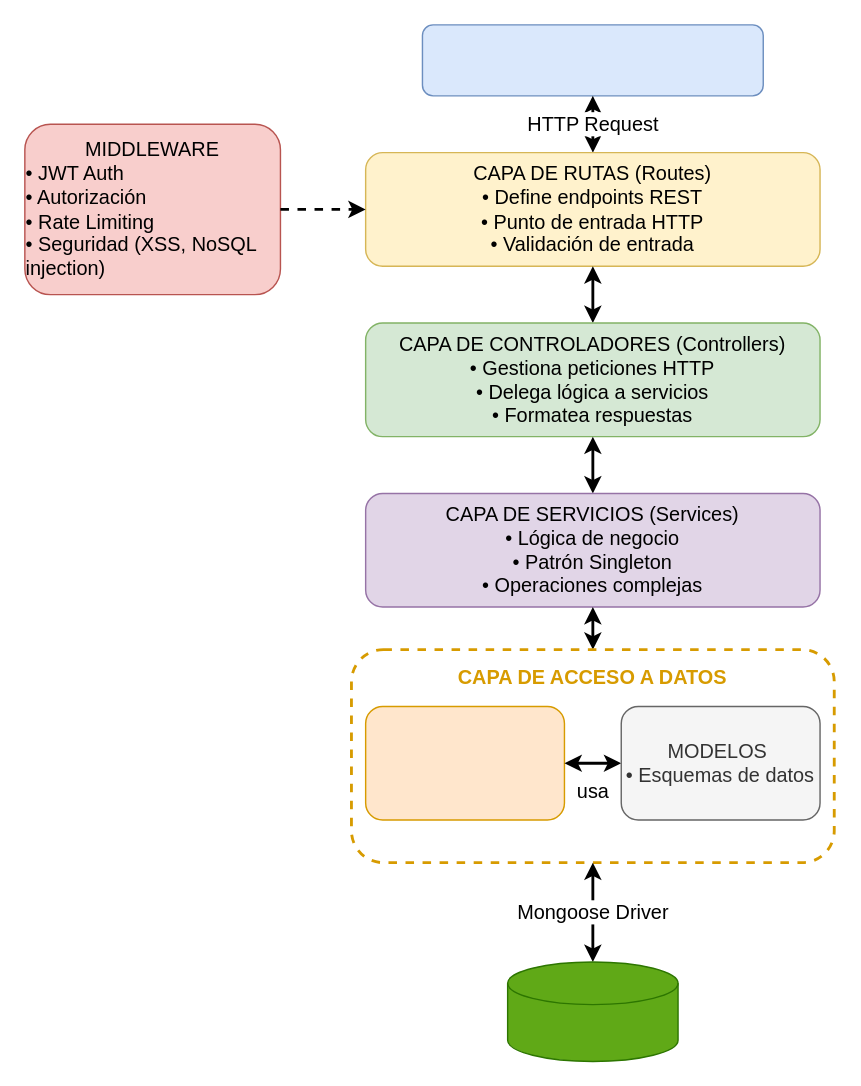
Some shapes in this 861 by 1086 pixel diagram are drawn without their labels. The shapes that lost their labels are listed below. From the top down, each one's centre as x and y in pixels, then its label:
At (592,59): "Cliente (React Frontend)".
At (464,762): "REPOSITORIOS • Abstracción acceso a datos • Operaciones CRUD".
At (592,1011): "MongoDB".
